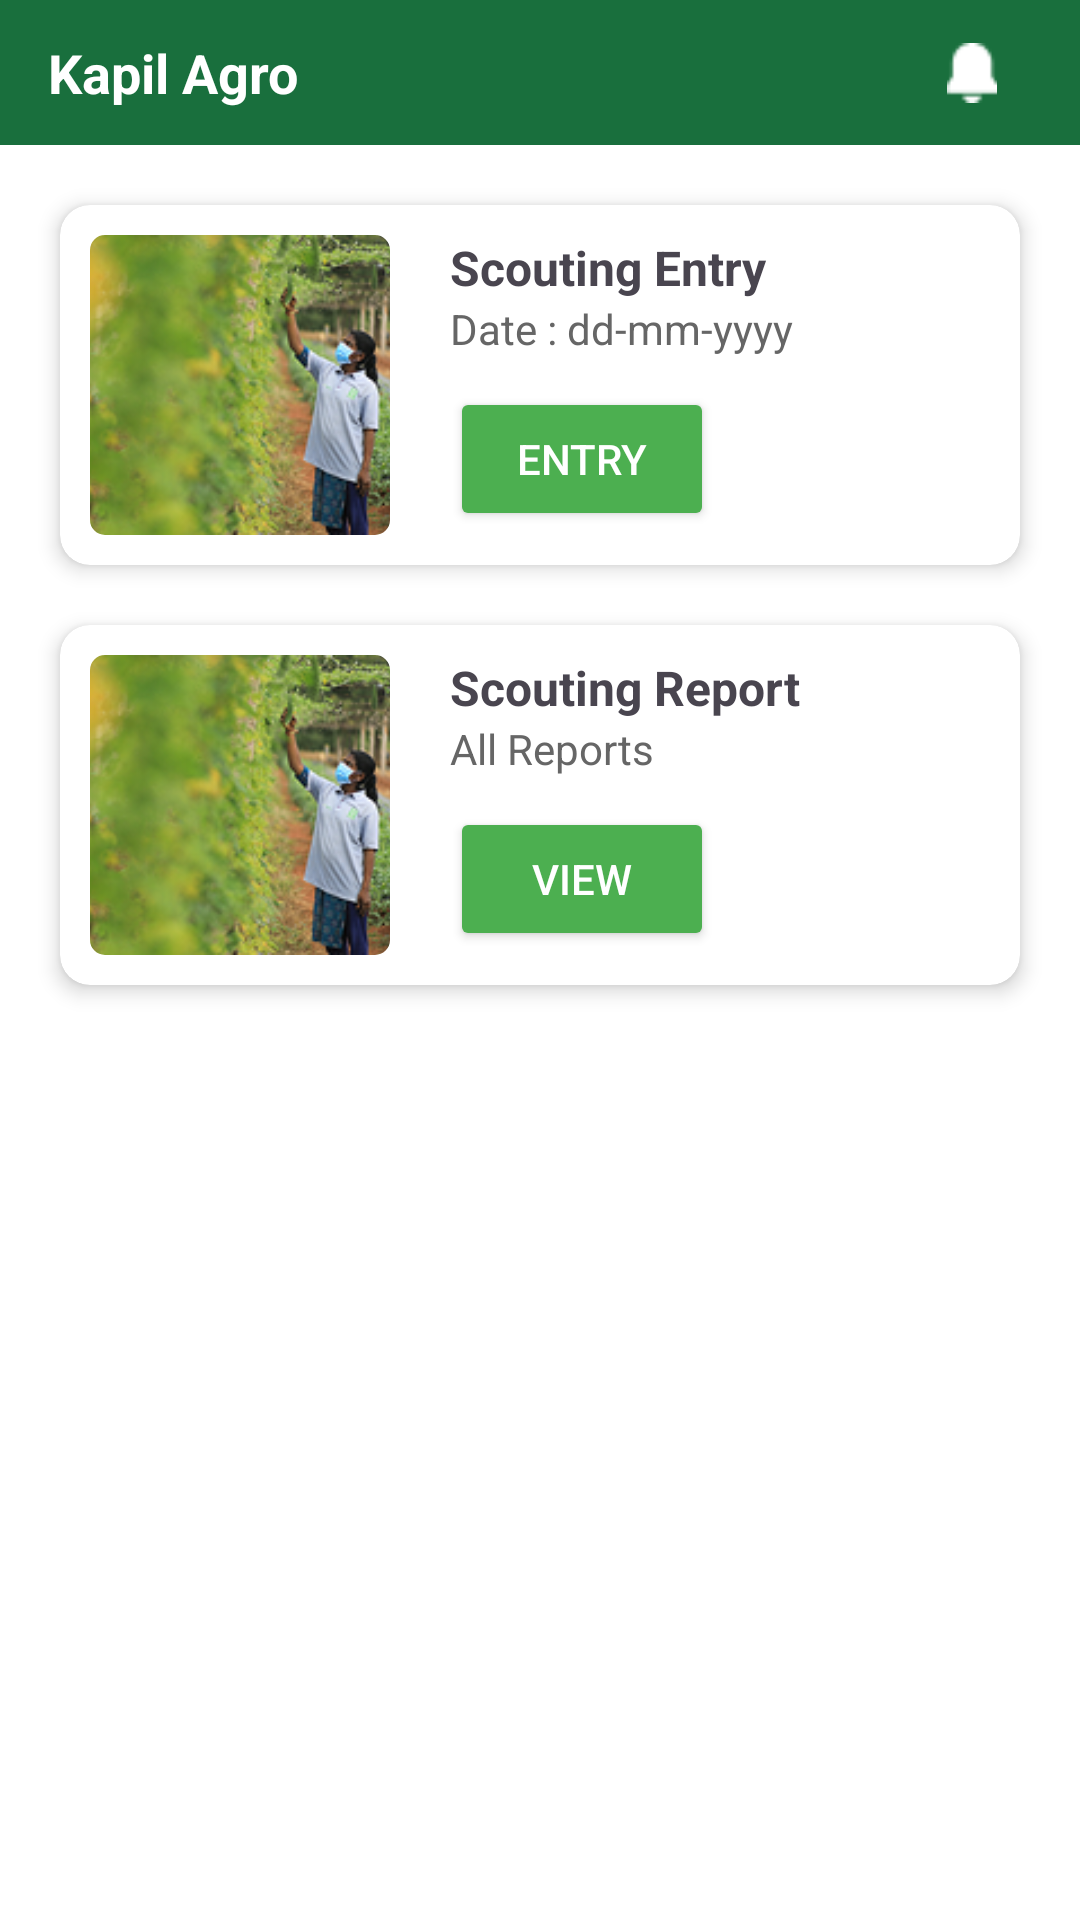

Where icons sit on this 1080px×1920px app screen, as bbox=[x1, y1, x2, y2]:
Notifications: bbox=[947, 43, 997, 103]
scouting girl: bbox=[90, 235, 390, 535], bbox=[90, 655, 390, 955]
